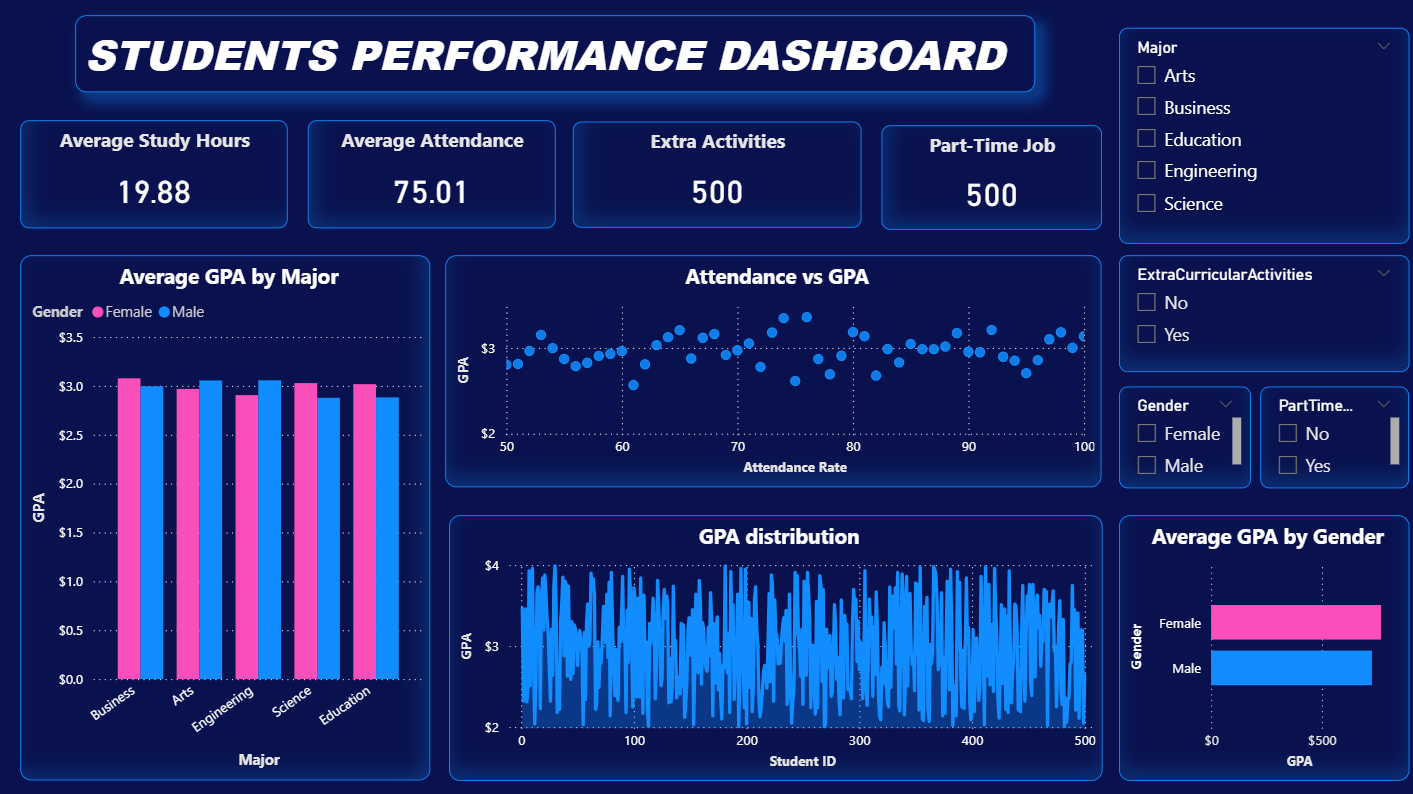

This screenshot's page, from the dashboard's own definition file:
{"tool":"powerbi","page":{"name":"Overview","canvas":[1280,720],"ordinal":0},"visuals":[{"type":"card","title":"Average Attendance","fields":{"Values":["Avg(student_performance_data.AttendanceRate)"]},"box":[278.6,109.8,223.7,97.4],"z":0},{"type":"barChart","title":"Average GPA by Gender","fields":{"Y":["Sum(student_performance_data.GPA)"],"Category":["student_performance_data.Gender"]},"box":[1011.3,466.6,262.1,240.1],"z":1000},{"type":"card","title":"Average Study Hours","fields":{"Values":["Avg(student_performance_data.StudyHoursPerWeek)"]},"box":[19.2,109.8,241.5,97.4],"z":2000},{"type":"card","title":"Extra Activities","fields":{"Values":["CountNonNull(student_performance_data.ExtraCurricularActivities)"]},"box":[518.7,111.1,260.7,96.1],"z":3000},{"type":"stackedAreaChart","title":"GPA distribution","fields":{"Category":["student_performance_data.StudentID"],"Y":["Median(student_performance_data.GPA)"]},"box":[406.2,466.6,590.1,240.1],"z":4000},{"type":"clusteredColumnChart","title":"Average GPA by Major","fields":{"Y":["Avg(student_performance_data.GPA)"],"Category":["student_performance_data.Major"],"Series":["student_performance_data.Gender"]},"box":[19.2,231.9,370.5,474.8],"z":5000},{"type":"slicer","fields":{"Values":["student_performance_data.Gender"]},"box":[1011.3,349.9,119.4,91.9],"z":6000},{"type":"slicer","fields":{"Values":["student_performance_data.Major"]},"box":[1011.3,26.1,262.1,194.9],"z":7000},{"type":"slicer","fields":{"Values":["student_performance_data.PartTimeJob"]},"box":[1138.9,349.9,134.5,91.9],"z":8000},{"type":"slicer","fields":{"Values":["student_performance_data.ExtraCurricularActivities"]},"box":[1011.3,231.9,262.1,105.7],"z":9000},{"type":"scatterChart","title":"Attendance vs GPA","fields":{"X":["student_performance_data.AttendanceRate"],"Y":["Avg(student_performance_data.GPA)"]},"box":[403.4,231.9,592.8,209.9],"z":10000},{"type":"card","title":"Part-Time Job","fields":{"Values":["CountNonNull(student_performance_data.PartTimeJob)"]},"box":[797.3,113.9,199,94.7],"z":11000},{"type":"textbox","box":[68.6,15.1,867.2,70],"z":12000}]}

Visuals, with their boxes in screenshot pixels (x1, y1, x2, y2), scaled from the page's 1280x720 canvas onto the 1413x794 screenshot:
"Average Attendance" card: (308,121,554,228)
"Average GPA by Gender" barChart: (1116,515,1406,779)
"Average Study Hours" card: (21,121,288,228)
"Extra Activities" card: (573,123,860,228)
"GPA distribution" stackedAreaChart: (448,515,1100,779)
"Average GPA by Major" clusteredColumnChart: (21,256,430,779)
slicer - student_performance_data.Gender: (1116,386,1248,487)
slicer - student_performance_data.Major: (1116,29,1406,244)
slicer - student_performance_data.PartTimeJob: (1257,386,1406,487)
slicer - student_performance_data.ExtraCurricularActivities: (1116,256,1406,372)
"Attendance vs GPA" scatterChart: (445,256,1100,487)
"Part-Time Job" card: (880,126,1100,230)
textbox: (76,17,1033,94)
